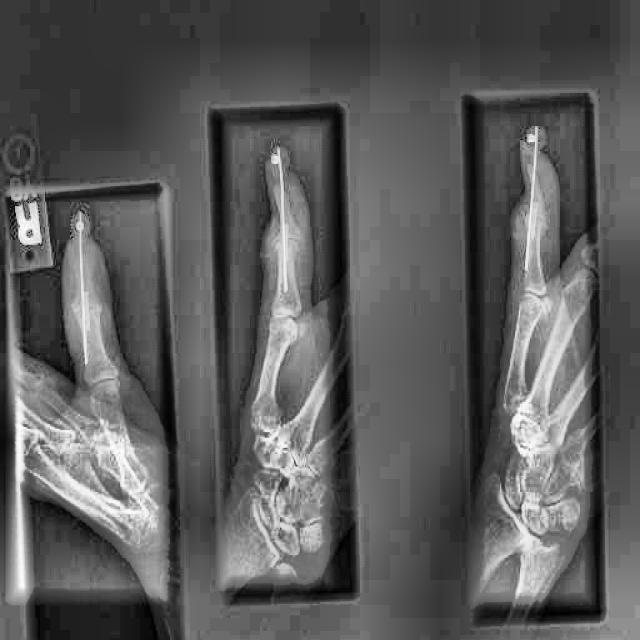fingers positive: (517, 192, 555, 252), (526, 291, 563, 339)
